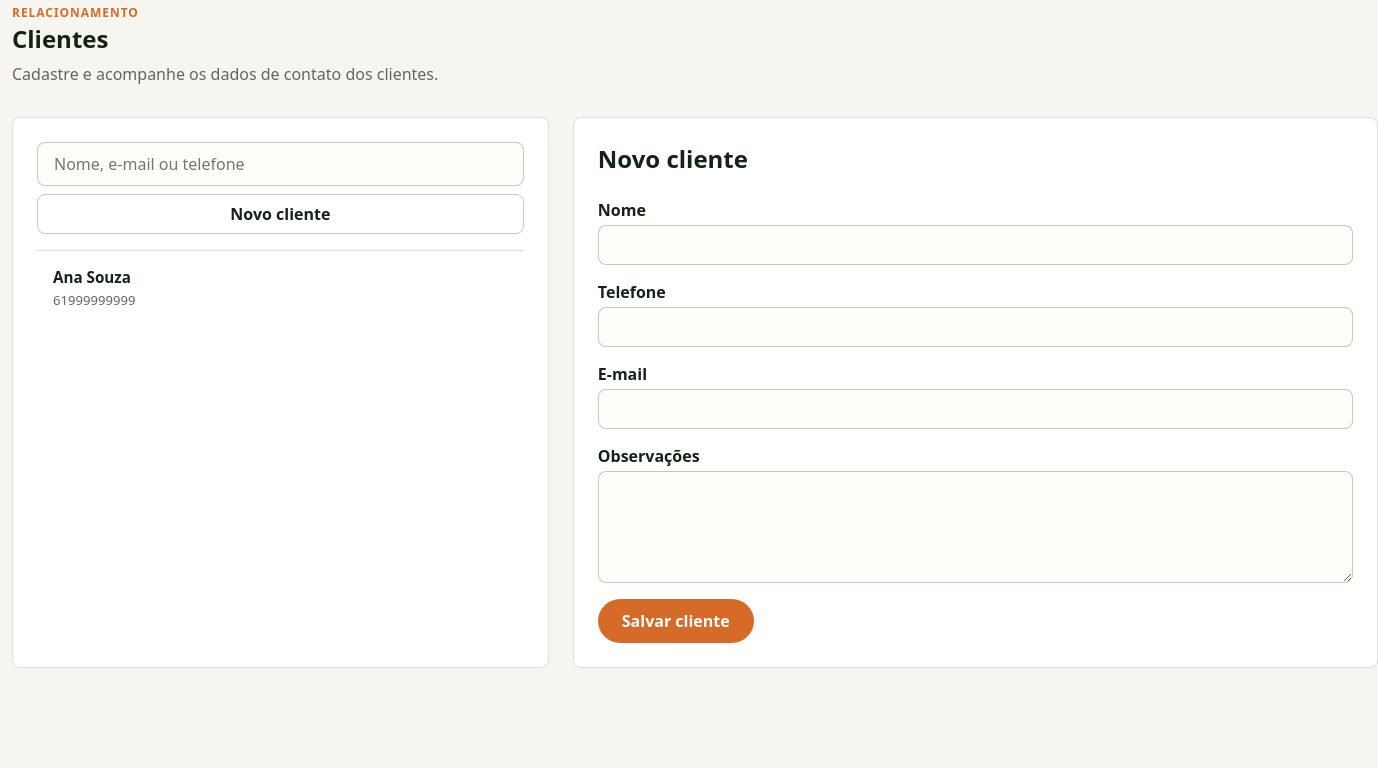
it: AdminClientsPage deletion › shows deletion only for an existing customer and hides it for a new customer
Expected: the button "Excluir cliente" is not shown
Click the button "Ana Souza 61999999999": point(92, 277) [37, 250, 524, 325]
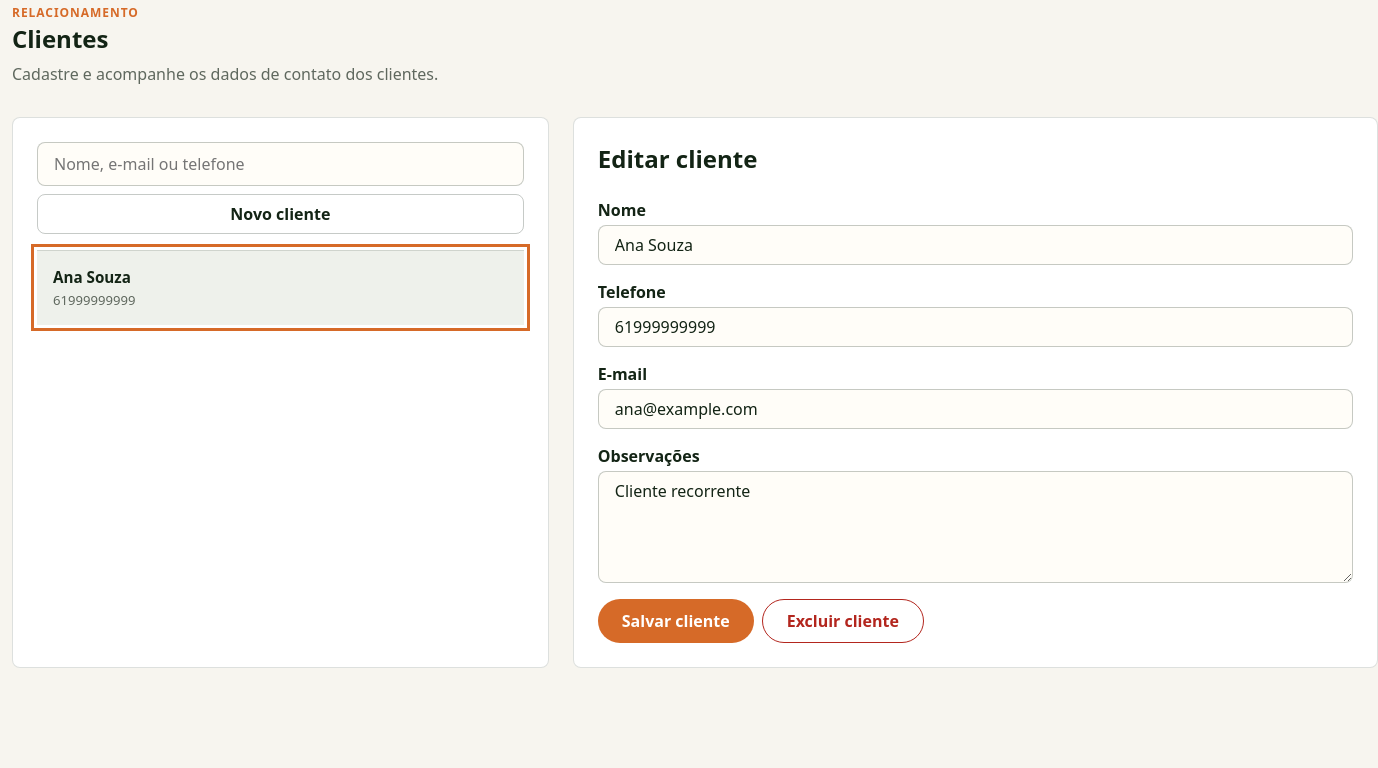
Expected: the button "Excluir cliente" is shown, [762, 599, 924, 643]
Click the button "Novo cliente": point(280, 214) [37, 194, 524, 234]
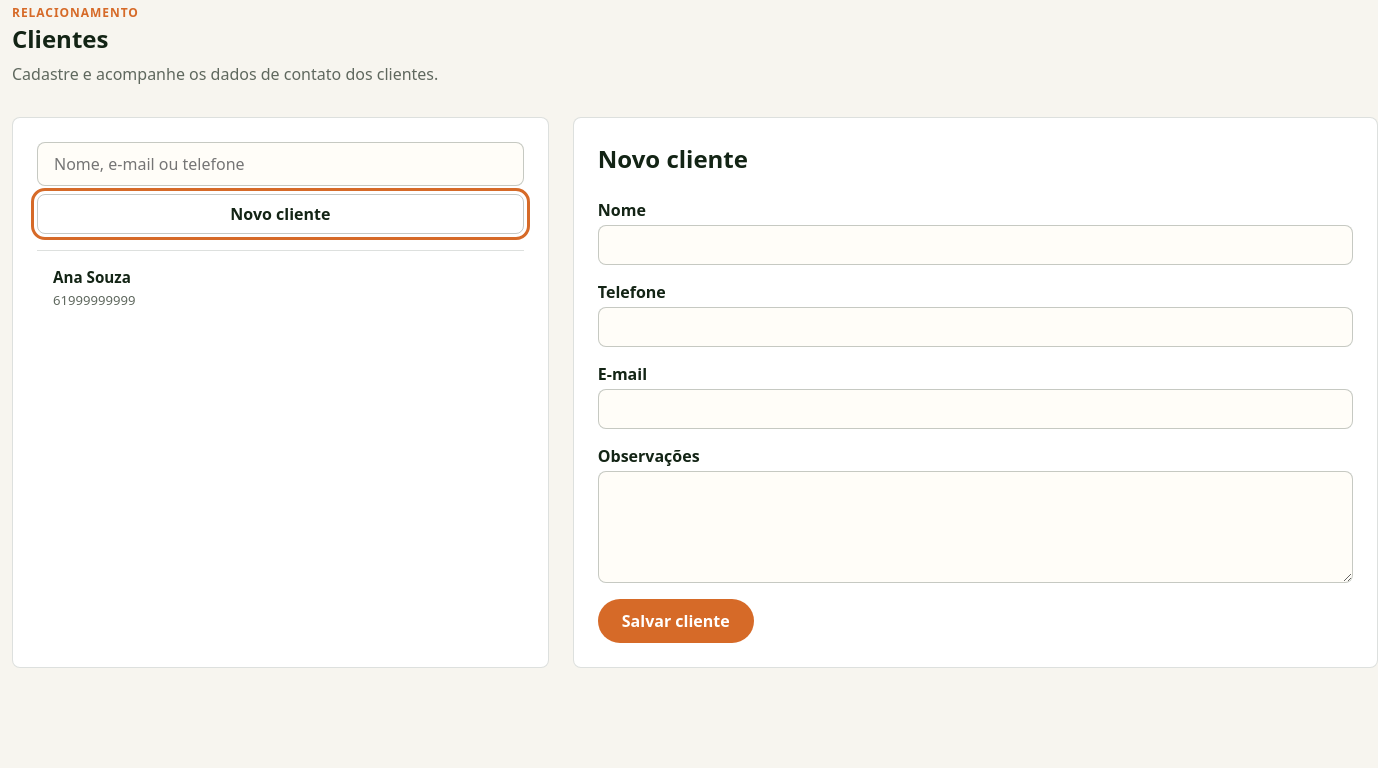
Expected: the button "Excluir cliente" is gone
